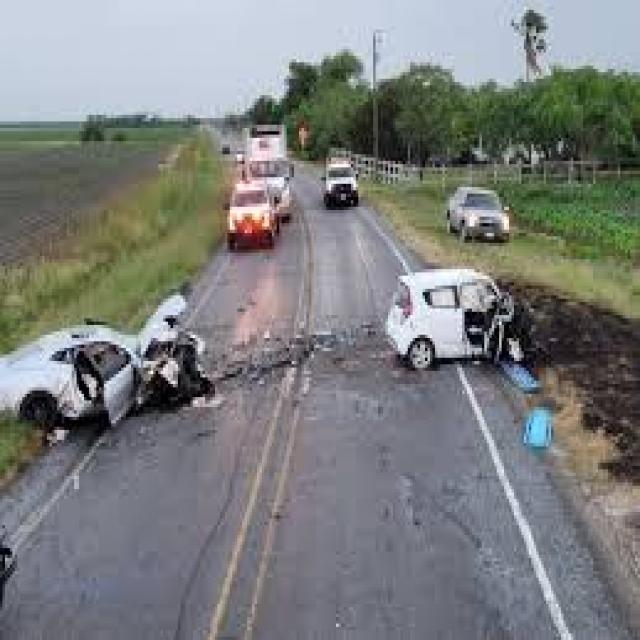accident: (14, 236, 584, 494), (14, 310, 252, 468), (375, 247, 574, 396)
